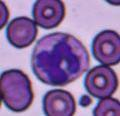N: (31, 32, 90, 85)
